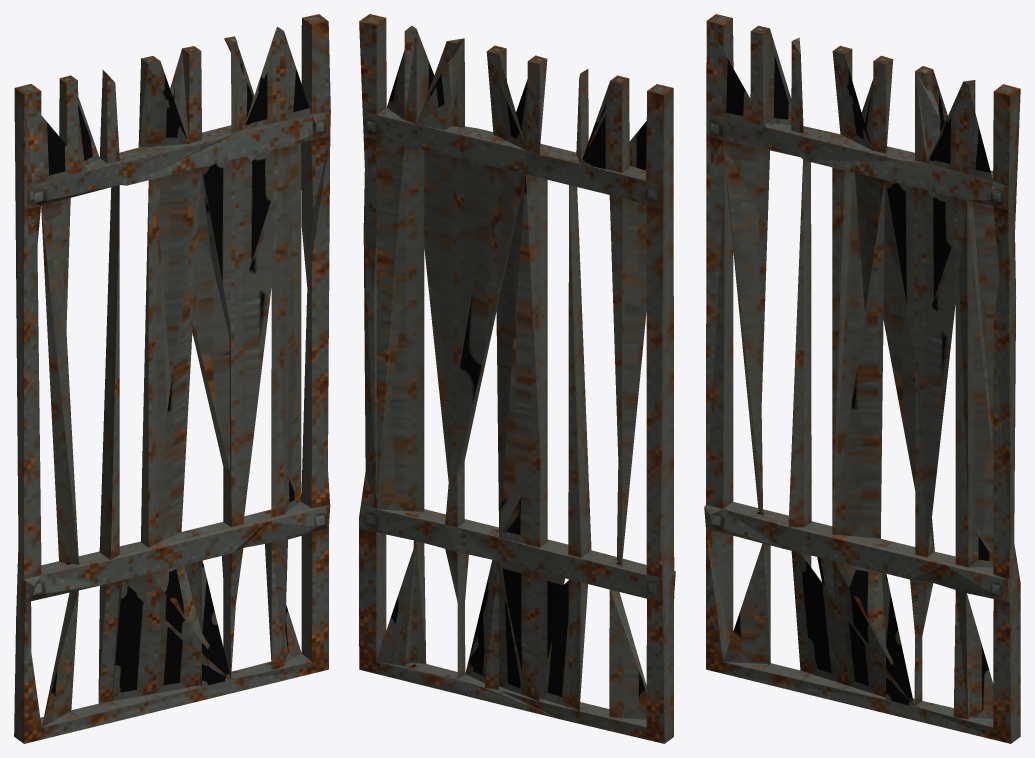
File: Meshy_AI_model.glb
3 views of the same model, side by side, from view 1: azimuth 30°, elevation 25°; view 2: azimuth 150°, elevation 25°; view 3: azimuth 330°, elevation 25° (orthographic).
Visible parts, largest first — view 1: output_unwrapped; view 2: output_unwrapped; view 3: output_unwrapped.
Part boxes in pixels (x1,y1,x2,y2): output_unwrapped: (14, 14, 330, 743); output_unwrapped: (359, 14, 675, 743); output_unwrapped: (704, 14, 1020, 743).
Size of the model in its own units: 0.9358 by 1.9 by 0.0714.
1 material, 1 textured.
